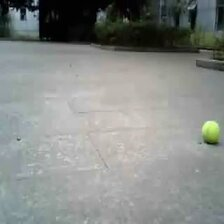tennis: (201, 120, 219, 145)
